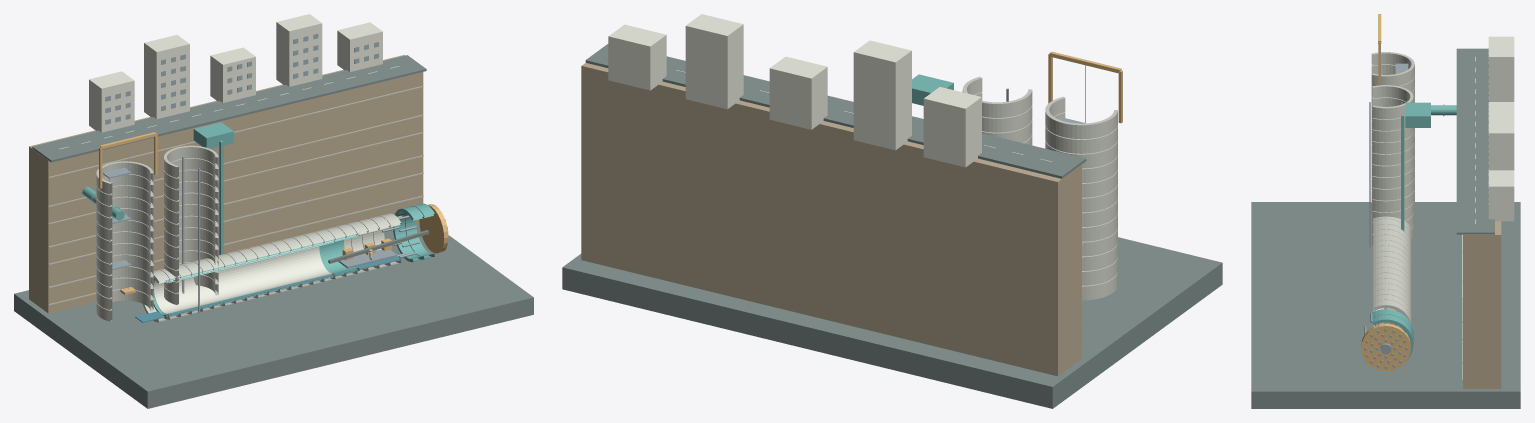
File: world-dtss.glb
3 views of the same model, side by side, from view 1: azimuth 30°, elevation 25°; view 2: azimuth 150°, elevation 25°; view 3: azimuth 270°, elevation 25° (orthographic). The views are drawn at different scales.
Parts seen in each view (by area): view 1: stage-0-excavated-strata, stage-0-compacted-fill, stage-0-porcelain, stage-1-warm-concrete, stage-3-warm-concrete, stage-3-porcelain, stage-2-warm-concrete, stage-0-warm-concrete, stage-3-infrastructure-teal, stage-1-safety-ochre, stage-0-structural-steel, stage-1-structural-steel (+4 smaller); view 2: stage-0-compacted-fill, stage-0-excavated-strata, stage-0-porcelain, stage-1-warm-concrete, stage-3-warm-concrete, stage-1-safety-ochre, stage-3-infrastructure-teal; view 3: stage-0-excavated-strata, stage-0-compacted-fill, stage-3-warm-concrete, stage-0-porcelain, stage-2-warm-concrete, stage-1-safety-ochre, stage-1-warm-concrete, stage-3-infrastructure-teal, stage-1-structural-steel, stage-1-infrastructure-teal, stage-3-structural-steel, stage-4-infrastructure-teal.
Part boxes in pixels (x1,y1,x2,y2): stage-0-excavated-strata: (14,55,533,408); stage-0-compacted-fill: (29,55,423,313); stage-0-porcelain: (59,14,399,149); stage-1-warm-concrete: (96,161,153,321); stage-3-warm-concrete: (164,145,218,305); stage-3-porcelain: (153,240,334,316); stage-2-warm-concrete: (143,213,401,322); stage-0-warm-concrete: (48,86,423,305); stage-3-infrastructure-teal: (153,122,359,318); stage-1-safety-ochre: (99,132,448,294); stage-0-structural-steel: (105,33,378,124); stage-1-structural-steel: (103,143,448,289); stage-0-compacted-fill: (581,63,1081,376); stage-0-excavated-strata: (562,44,1222,408); stage-0-porcelain: (608,14,1051,167); stage-1-warm-concrete: (1045,96,1117,300); stage-3-warm-concrete: (962,77,1032,145); stage-1-safety-ochre: (1048,51,1122,123); stage-3-infrastructure-teal: (912,74,953,105); stage-0-excavated-strata: (1251,48,1520,408); stage-0-compacted-fill: (1463,221,1501,388); stage-3-warm-concrete: (1372,85,1413,245); stage-0-porcelain: (1475,36,1514,224); stage-2-warm-concrete: (1373,216,1411,337); stage-1-safety-ochre: (1361,14,1410,370); stage-1-warm-concrete: (1371,52,1414,213); stage-3-infrastructure-teal: (1374,102,1430,325); stage-1-structural-steel: (1364,63,1408,369); stage-1-infrastructure-teal: (1372,309,1413,360); stage-3-structural-steel: (1369,102,1402,247); stage-4-infrastructure-teal: (1431,105,1456,115).
Bounding box in the file's own units: 70 × 41.5 × 42.
